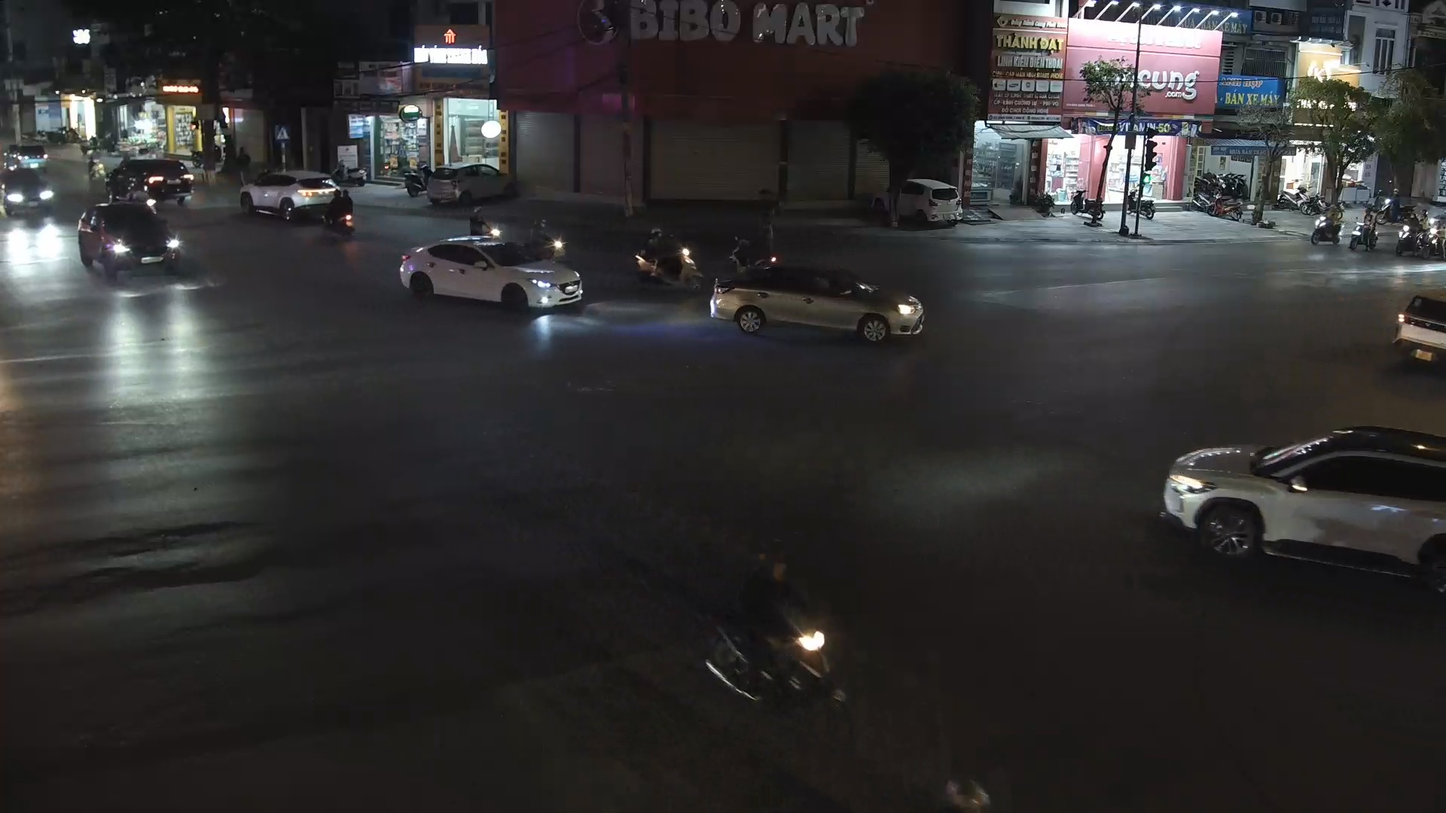car: (1159, 420, 1445, 601), (708, 263, 928, 345), (397, 230, 587, 314), (78, 195, 180, 283), (238, 174, 349, 224), (1391, 282, 1445, 372), (0, 166, 56, 220)
motorbike: (706, 534, 851, 728), (630, 225, 708, 301)
